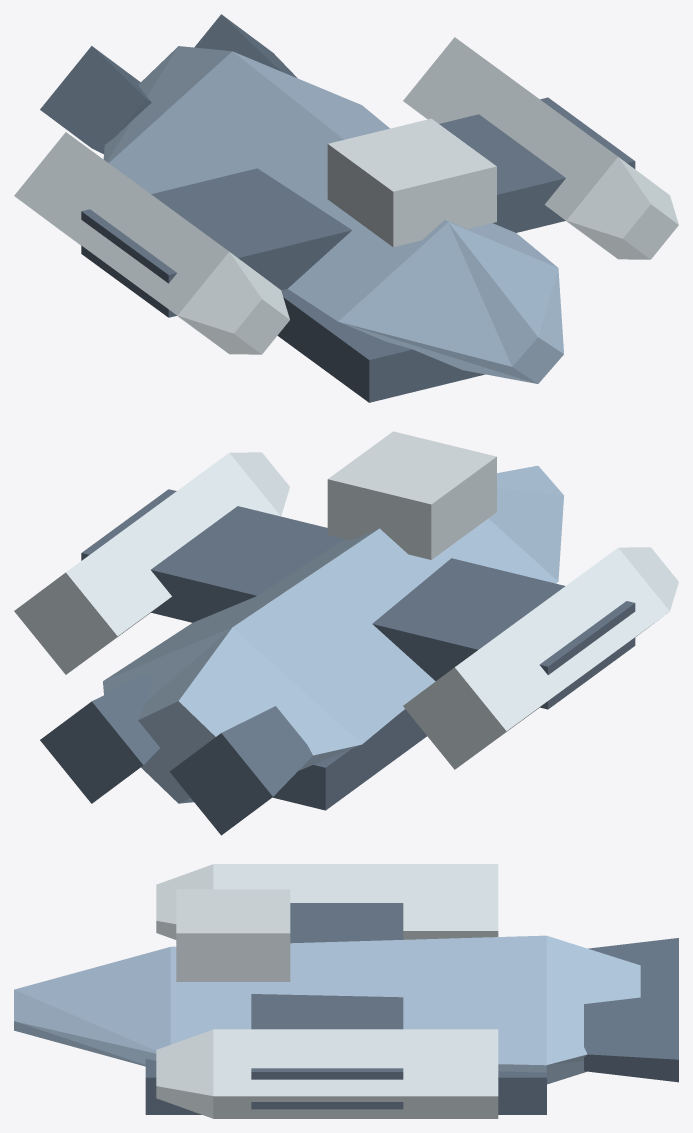
3 views of the same model, one above another, from view 1: azimuth 30°, elevation 25°; view 2: azimuth 150°, elevation 25°; view 3: azimuth 270°, elevation 25° (orthographic). The views are drawn at different scales.
Size of the model in its own units: 5.06 by 1.95 by 6.79.
